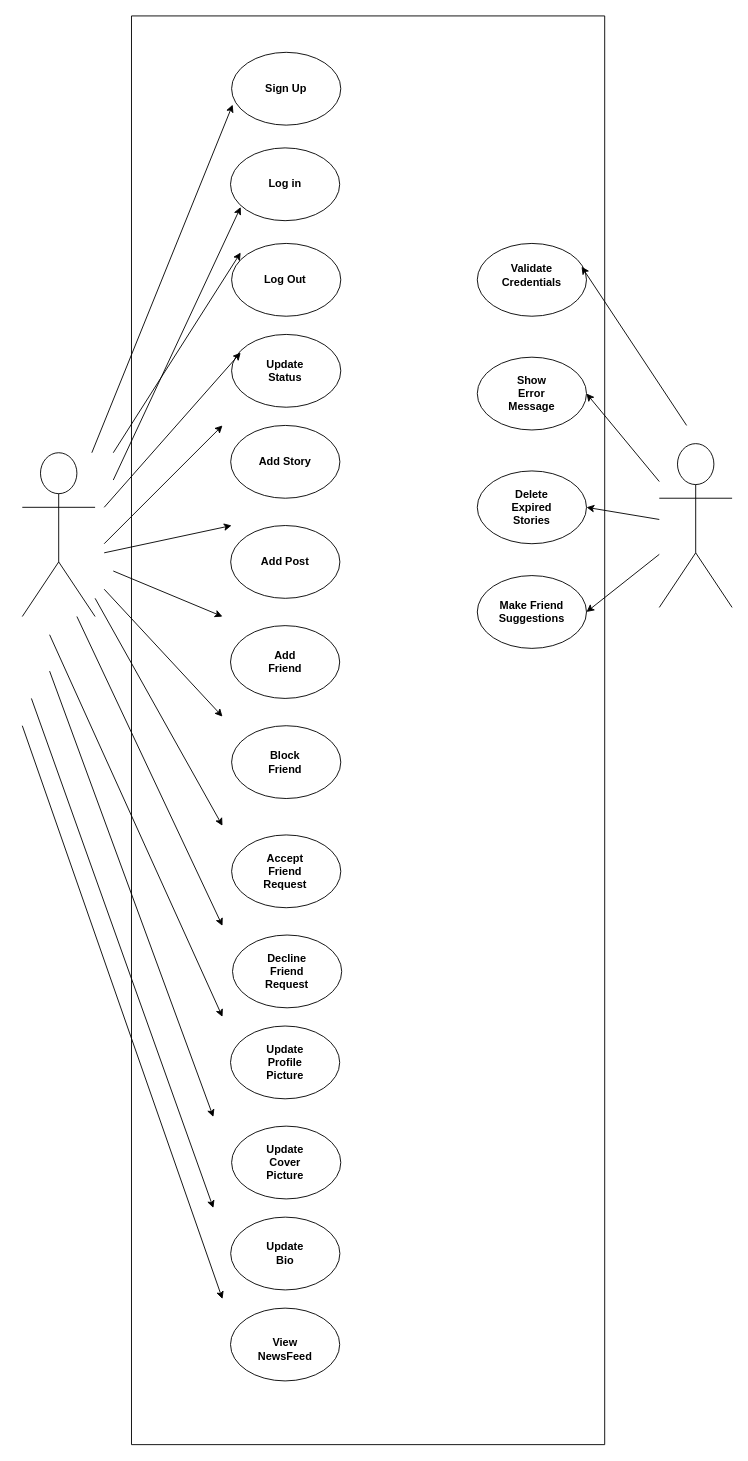
Image size: 748x1461. Some labels were removed from this diagram. The centre of each missing label's shape, as x and y in pixels:
System: the point at 695,525
User: the point at 58,534
